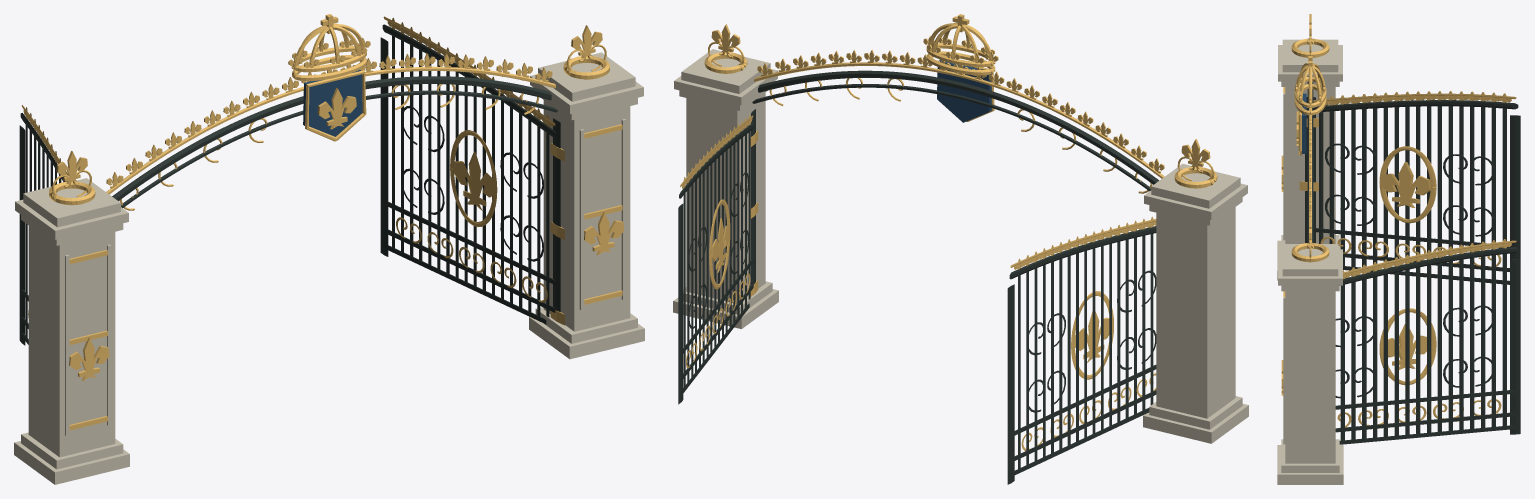
Rendered from royalGate.glb.
3 renders of one model, left to right at view 1: azimuth 30°, elevation 25°; view 2: azimuth 150°, elevation 25°; view 3: azimuth 270°, elevation 25°, orthographic. The views are drawn at different scales.
Visible parts, largest first — view 1: Portail royal - couronne fleurs de lys et volutes.002; view 2: Portail royal - couronne fleurs de lys et volutes.002; view 3: Portail royal - couronne fleurs de lys et volutes.002.
Part boxes in pixels (bbox=[...]): Portail royal - couronne fleurs de lys et volutes.002: bbox=[14, 14, 644, 484]; Portail royal - couronne fleurs de lys et volutes.002: bbox=[673, 14, 1248, 484]; Portail royal - couronne fleurs de lys et volutes.002: bbox=[1277, 14, 1520, 484].
Bounding box in the file's own units: 13.75 × 8.52 × 6.04.
